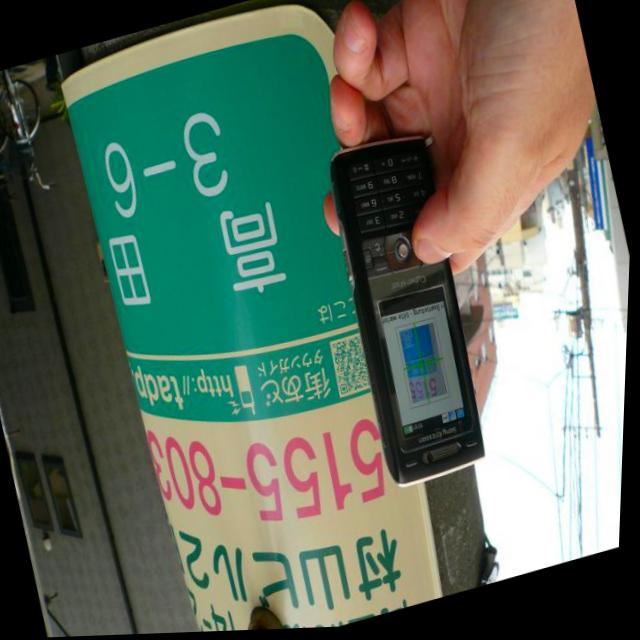qrcode: (331, 338, 375, 398)
